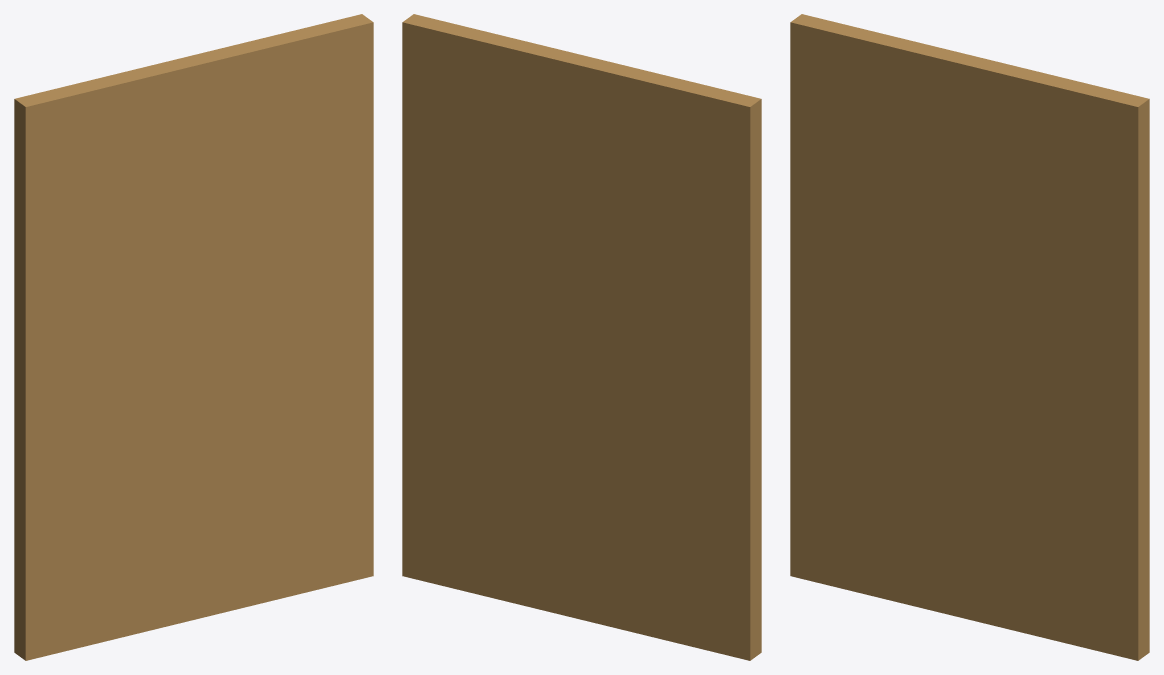
3 views of the same model, side by side, from view 1: azimuth 30°, elevation 25°; view 2: azimuth 150°, elevation 25°; view 3: azimuth 330°, elevation 25° (orthographic).
Visible parts, largest first — view 1: FF-W122; view 2: FF-W122; view 3: FF-W122.
Part boxes in pixels (box(x1,y1,x2,y2)): FF-W122: box(14, 14, 373, 660); FF-W122: box(402, 14, 761, 660); FF-W122: box(790, 14, 1149, 660).
Bounding box in the file's own units: 1.59 × 2.42 × 0.09.
